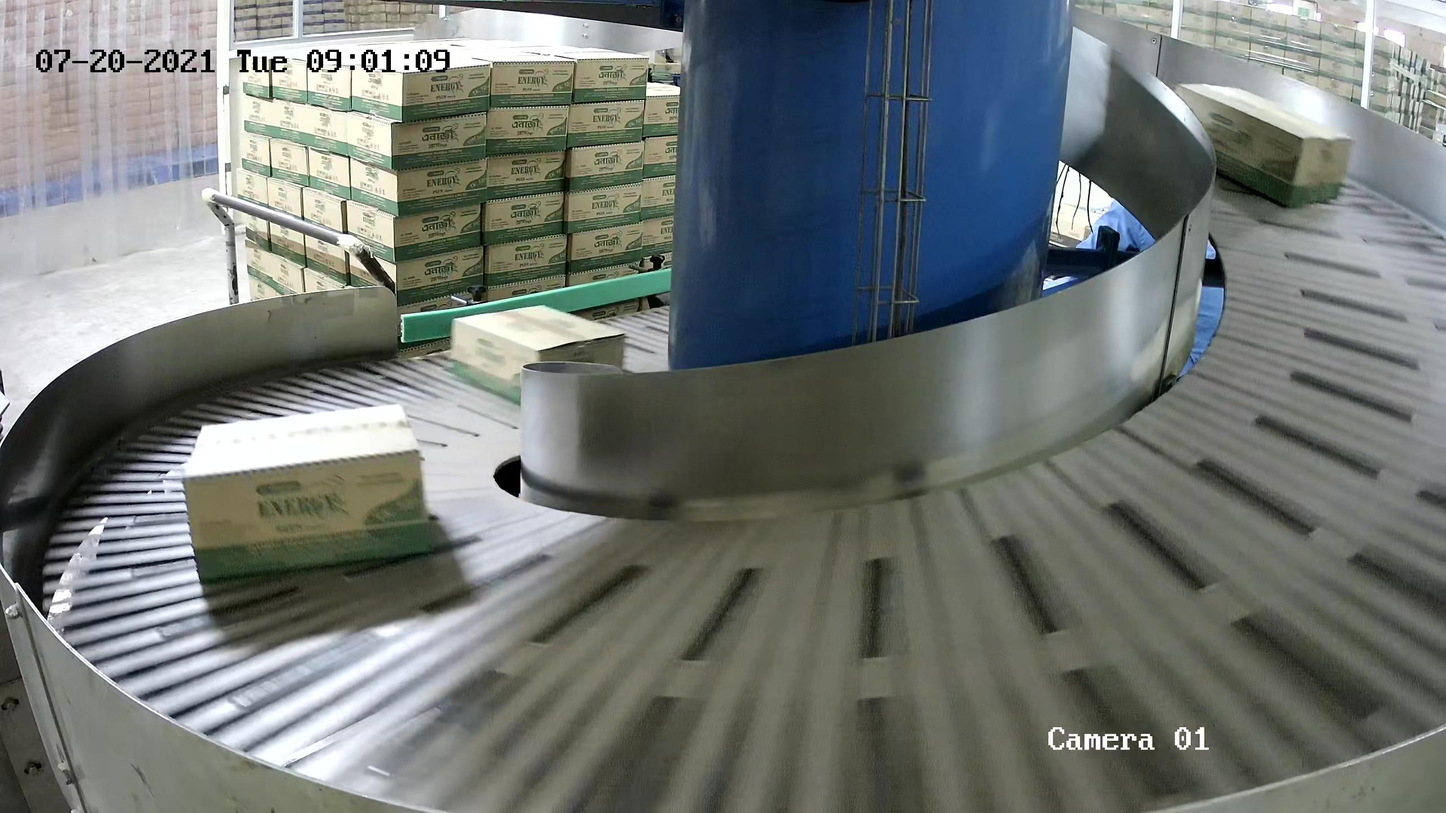Box: (181, 402, 432, 583), (1171, 82, 1355, 208), (449, 304, 628, 405)
